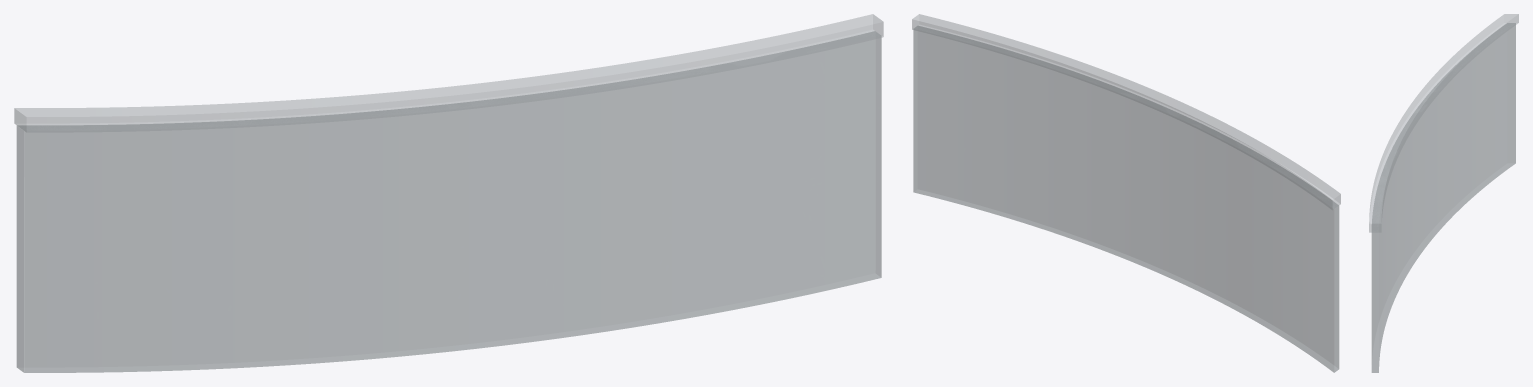
Rendered from rink_glass_corner_iihf_bottom_4x4.glb.
3 views of the same model, side by side, from view 1: azimuth 30°, elevation 25°; view 2: azimuth 150°, elevation 25°; view 3: azimuth 270°, elevation 25° (orthographic). The views are drawn at different scales.
Parts seen in each view (by area): view 1: rink_glass_corner_iihf_bottom_4x4; view 2: rink_glass_corner_iihf_bottom_4x4; view 3: rink_glass_corner_iihf_bottom_4x4.
Boxes of the visible parts, x1,y1,x2,y2 form: rink_glass_corner_iihf_bottom_4x4: (14, 14, 883, 372); rink_glass_corner_iihf_bottom_4x4: (912, 14, 1340, 372); rink_glass_corner_iihf_bottom_4x4: (1369, 14, 1518, 372).
Bounding box in the file's own units: 4 × 1.33 × 1.21.
Materials: 1 (1 with a texture image).
